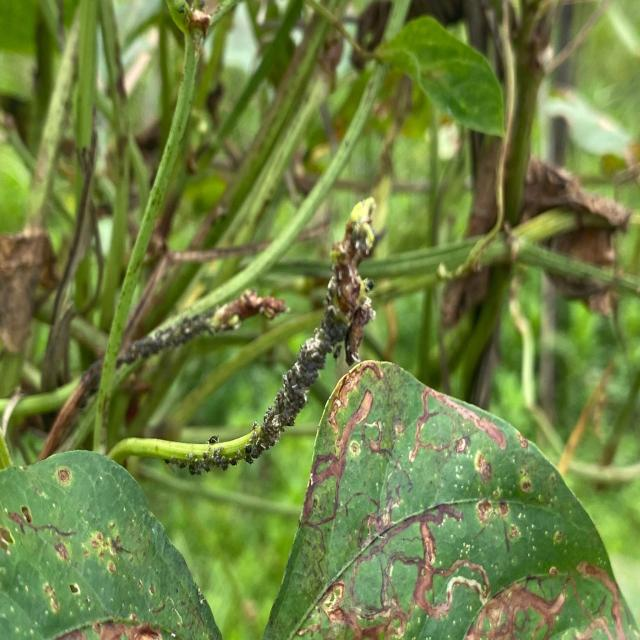leaf-moderate: (264, 360, 574, 640)
sitaw-aphid-low: (0, 451, 222, 640)
sitaw-aphid-moderate: (123, 200, 375, 475), (117, 290, 286, 380), (40, 360, 102, 459)
sitaw-moderate: (72, 26, 207, 449)
